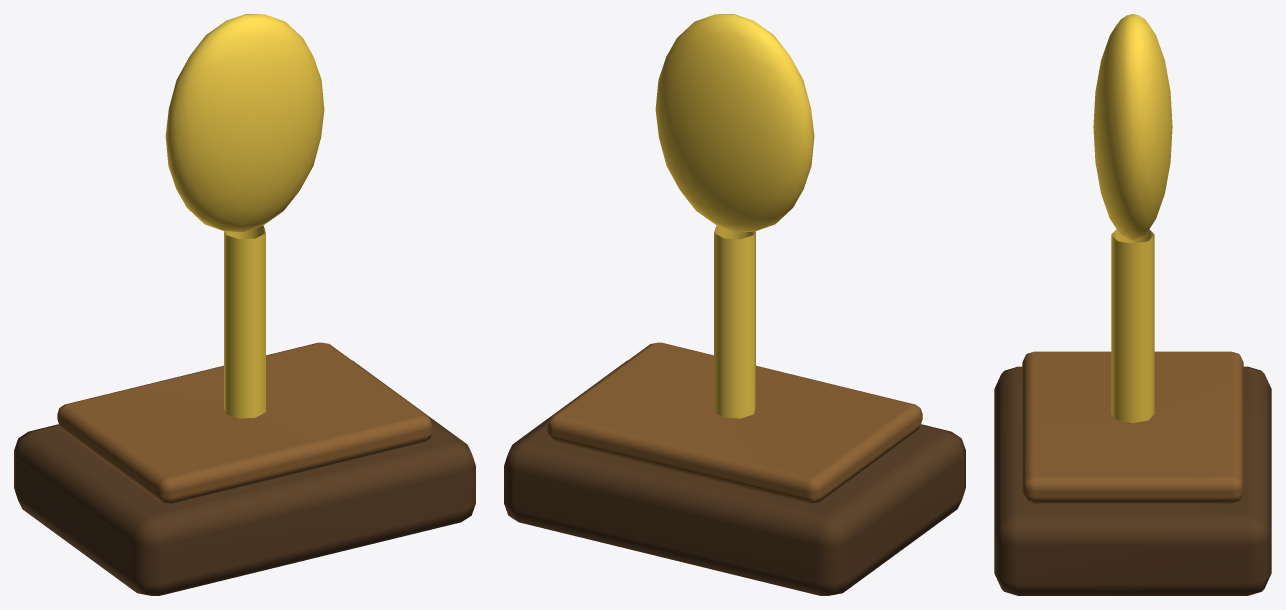
The model's file is furn_golden_spoon.glb.
3 views of the same model, side by side, from view 1: azimuth 30°, elevation 25°; view 2: azimuth 150°, elevation 25°; view 3: azimuth 270°, elevation 25° (orthographic).
Parts seen in each view (by area): view 1: furn_golden_spoon_main, furn_golden_spoon_gloss; view 2: furn_golden_spoon_main, furn_golden_spoon_gloss; view 3: furn_golden_spoon_main, furn_golden_spoon_gloss.
Part boxes in pixels (left/top/right/bottom): furn_golden_spoon_main: left=14, top=342, right=475, bottom=595; furn_golden_spoon_gloss: left=165, top=14, right=324, bottom=418; furn_golden_spoon_main: left=504, top=342, right=965, bottom=595; furn_golden_spoon_gloss: left=655, top=14, right=814, bottom=418; furn_golden_spoon_main: left=994, top=351, right=1271, bottom=595; furn_golden_spoon_gloss: left=1093, top=14, right=1172, bottom=422.
Bounding box in the file's own units: 0.2 × 0.28 × 0.14.
